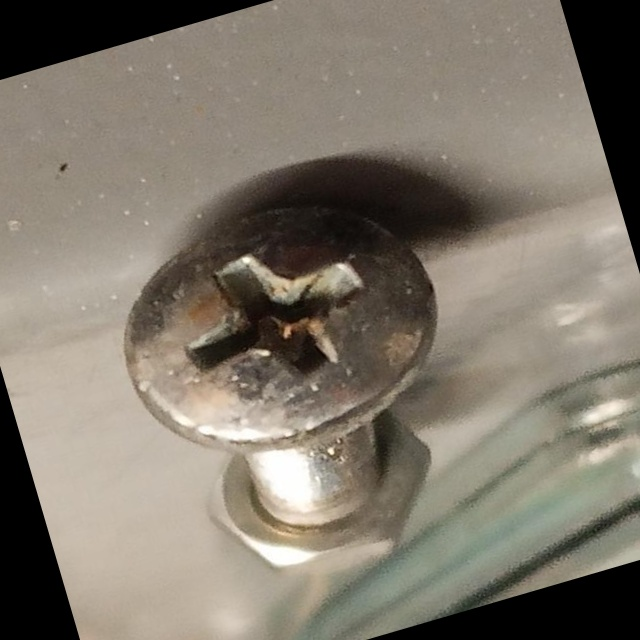phillips: (93, 170, 464, 480)
